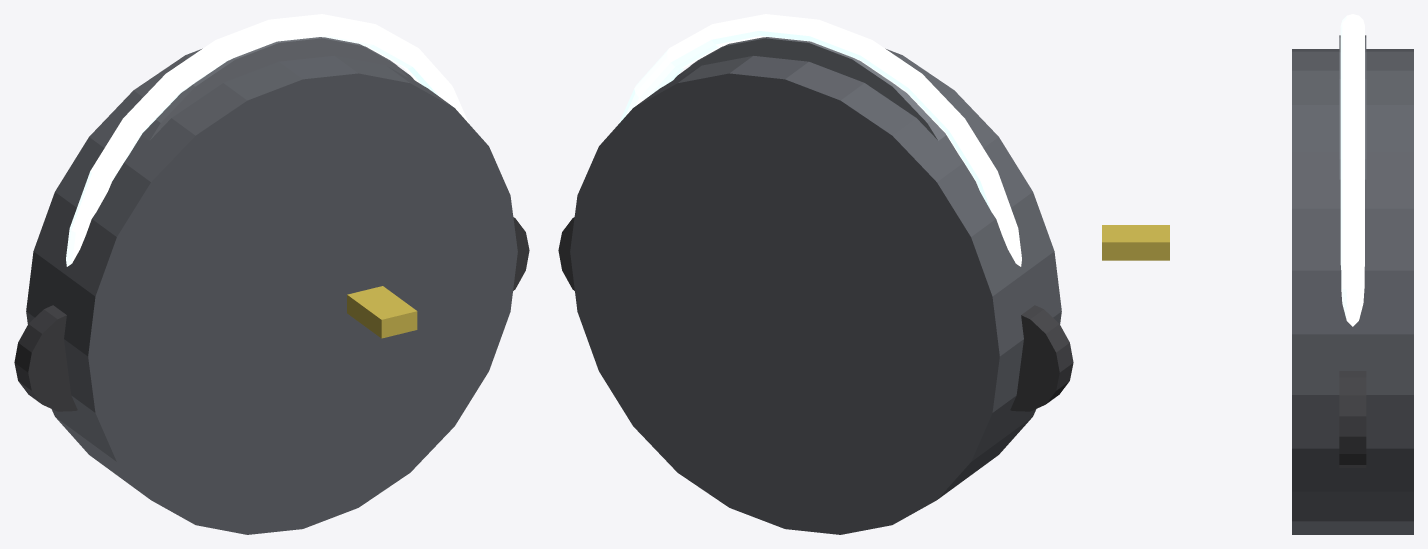
File: robot.glb
The picture shows the model from 3 angles, left to right: view 1: azimuth 30°, elevation 25°; view 2: azimuth 150°, elevation 25°; view 3: azimuth 270°, elevation 25°; orthographic projection.
Visible parts, largest first — view 1: chassis, LED, turntable, wheel_-1, heading_marker, wheel_1; view 2: chassis, LED, turntable, wheel_-1, wheel_1; view 3: chassis, LED, wheel_1, heading_marker, turntable.
Boxes of the visible parts, <box> form: chassis: <box>26,48,517,534</box>; LED: <box>66,14,468,266</box>; turntable: <box>142,37,407,140</box>; wheel_-1: <box>14,305,77,411</box>; heading_marker: <box>347,286,417,338</box>; wheel_1: <box>513,217,529,290</box>; chassis: <box>570,48,1061,534</box>; LED: <box>619,14,1021,266</box>; turntable: <box>680,37,945,140</box>; wheel_-1: <box>1010,305,1073,411</box>; wheel_1: <box>558,217,574,290</box>; chassis: <box>1292,49,1413,534</box>; LED: <box>1340,14,1364,326</box>; wheel_1: <box>1339,371,1366,467</box>; heading_marker: <box>1102,225,1169,260</box>; turntable: <box>1339,35,1366,179</box>.
Bounding box in the file's own units: 0.84 × 0.778 × 0.46.
